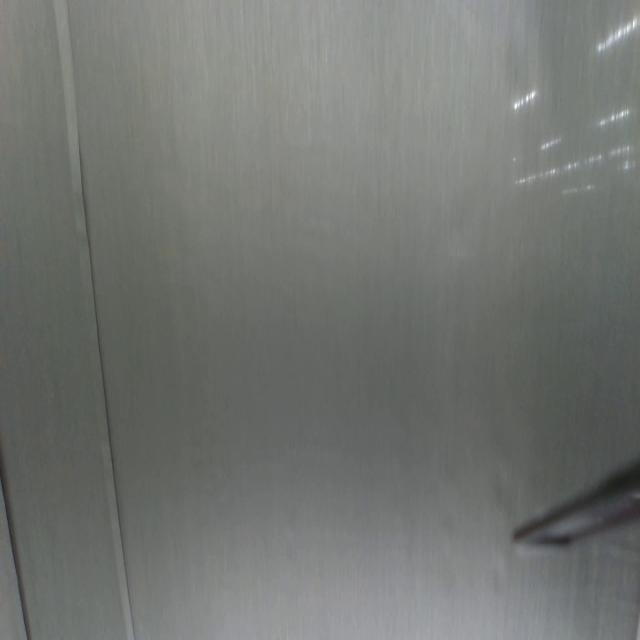crease: (54, 0, 138, 640), (1, 458, 32, 640)
